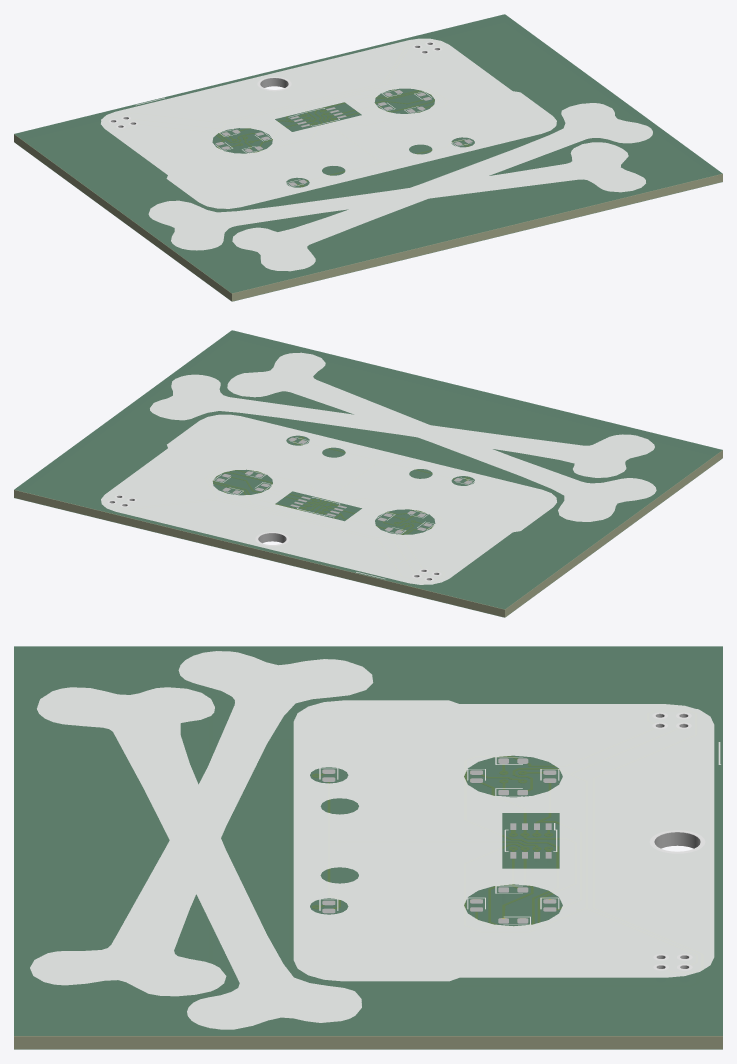
Rendered from bsides-badge-2019-interlock-rochester.glb.
The picture shows the model from 3 angles, top to bottom: view 1: azimuth 30°, elevation 25°; view 2: azimuth 150°, elevation 25°; view 3: azimuth 270°, elevation 25°; orthographic projection. The views are drawn at different scales.
Visible parts, largest first — view 1: =>[0:1:1:5], =>[0:1:1:9], =>[0:1:1:7], =>[0:1:1:2]; view 2: =>[0:1:1:5], =>[0:1:1:9], =>[0:1:1:7], =>[0:1:1:2]; view 3: =>[0:1:1:5], =>[0:1:1:9], =>[0:1:1:7], =>[0:1:1:2].
Part boxes in pixels (x1,y1,x2,y2): =>[0:1:1:5]: (101, 38, 652, 271); =>[0:1:1:9]: (14, 15, 722, 301); =>[0:1:1:7]: (14, 14, 722, 301); =>[0:1:1:2]: (110, 42, 472, 186); =>[0:1:1:5]: (101, 352, 656, 584); =>[0:1:1:9]: (14, 331, 722, 617); =>[0:1:1:7]: (14, 330, 722, 617); =>[0:1:1:2]: (109, 437, 472, 580); =>[0:1:1:5]: (30, 651, 720, 1029); =>[0:1:1:9]: (14, 647, 722, 1049); =>[0:1:1:7]: (14, 646, 722, 1049); =>[0:1:1:2]: (312, 713, 700, 968).
Bounding box in the file's own units: 0.0991 × 0.00166 × 0.0762.
Materials: 4 (4 with a texture image).
